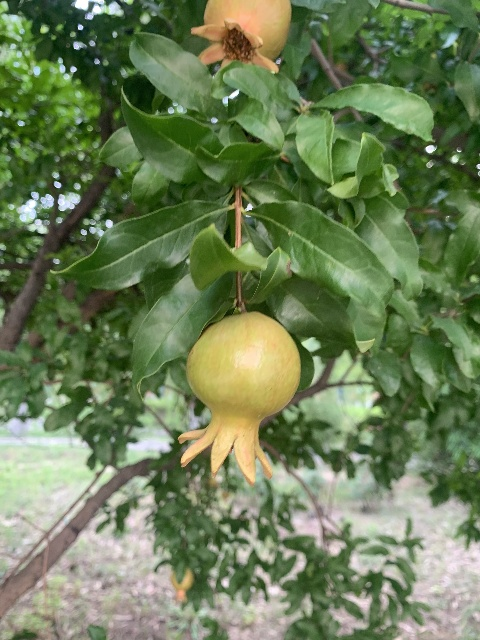mid-growth: (177, 311, 302, 486), (190, 0, 292, 75), (170, 568, 195, 605)
